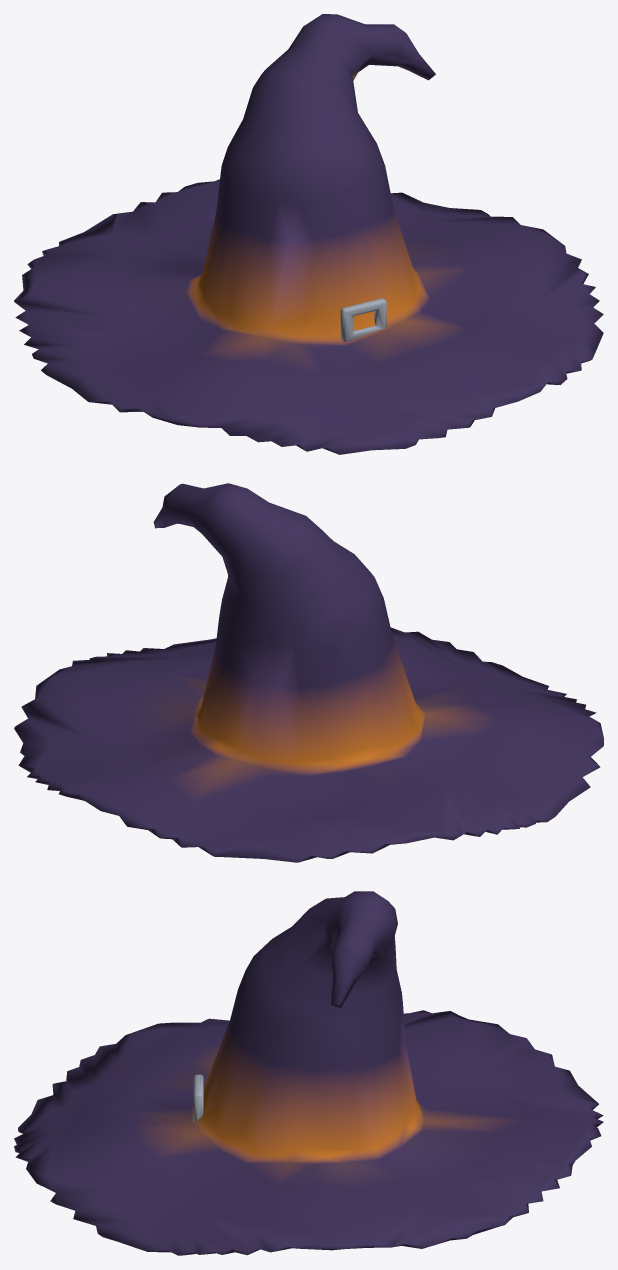
The model's file is muphuthuy.glb.
3 renders of one model, top to bottom at view 1: azimuth 30°, elevation 25°; view 2: azimuth 150°, elevation 25°; view 3: azimuth 270°, elevation 25°, orthographic.
Parts seen in each view (by area): view 1: Mu_Phu_Thuy, Khoa_Bac; view 2: Mu_Phu_Thuy; view 3: Mu_Phu_Thuy, Khoa_Bac.
Part boxes in pixels (<box>): Mu_Phu_Thuy: <box>14,14,603,454</box>; Khoa_Bac: <box>340,298,386,341</box>; Mu_Phu_Thuy: <box>14,483,603,862</box>; Mu_Phu_Thuy: <box>14,891,603,1255</box>; Khoa_Bac: <box>193,1074,203,1122</box>.
Bounding box in the file's own units: 0.4172 × 0.2579 × 0.4187.
